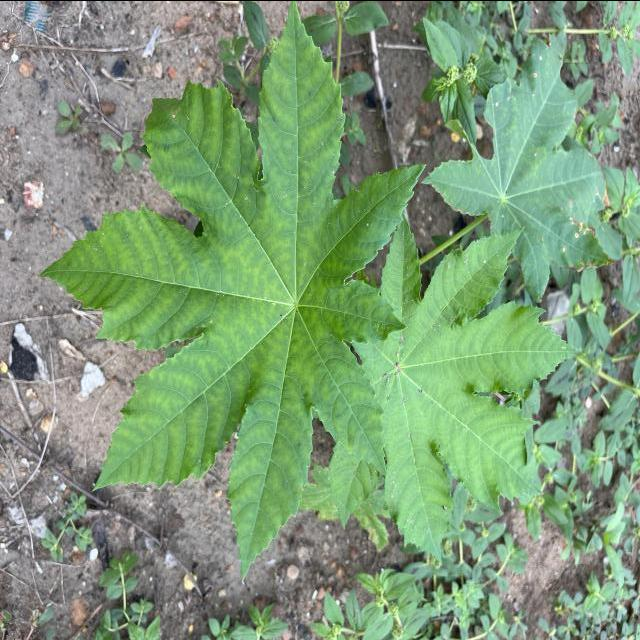Ricinus communis linn: (34, 0, 430, 585), (323, 207, 587, 566)
